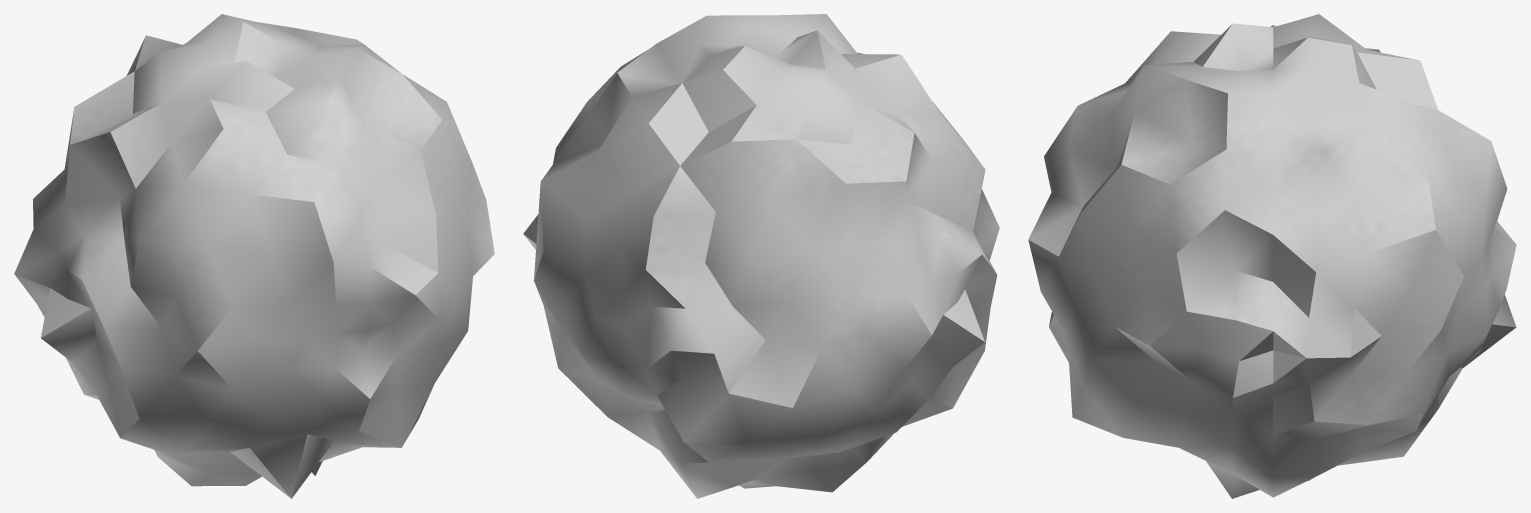
The model's file is Boulette.fbx.
3 renders of one model, left to right at view 1: azimuth 30°, elevation 25°; view 2: azimuth 150°, elevation 25°; view 3: azimuth 270°, elevation 25°, orthographic.
Parts seen in each view (by area): view 1: Sphere_1; view 2: Sphere_1; view 3: Sphere_1.
Boxes of the visible parts, left/top/right/bottom form: Sphere_1: left=14, top=14, right=494, bottom=498; Sphere_1: left=523, top=14, right=999, bottom=498; Sphere_1: left=1028, top=14, right=1516, bottom=498.
Bounding box in the file's own units: 220 × 214 × 214.
Materials: 1 (1 with a texture image).
